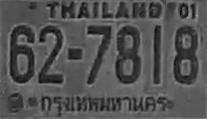1: (152, 25, 161, 84)
2: (38, 25, 62, 83)
6: (9, 24, 34, 82)
7: (86, 24, 111, 84)
8: (173, 25, 198, 84), (115, 25, 140, 83)
BKK: (36, 91, 171, 117)
